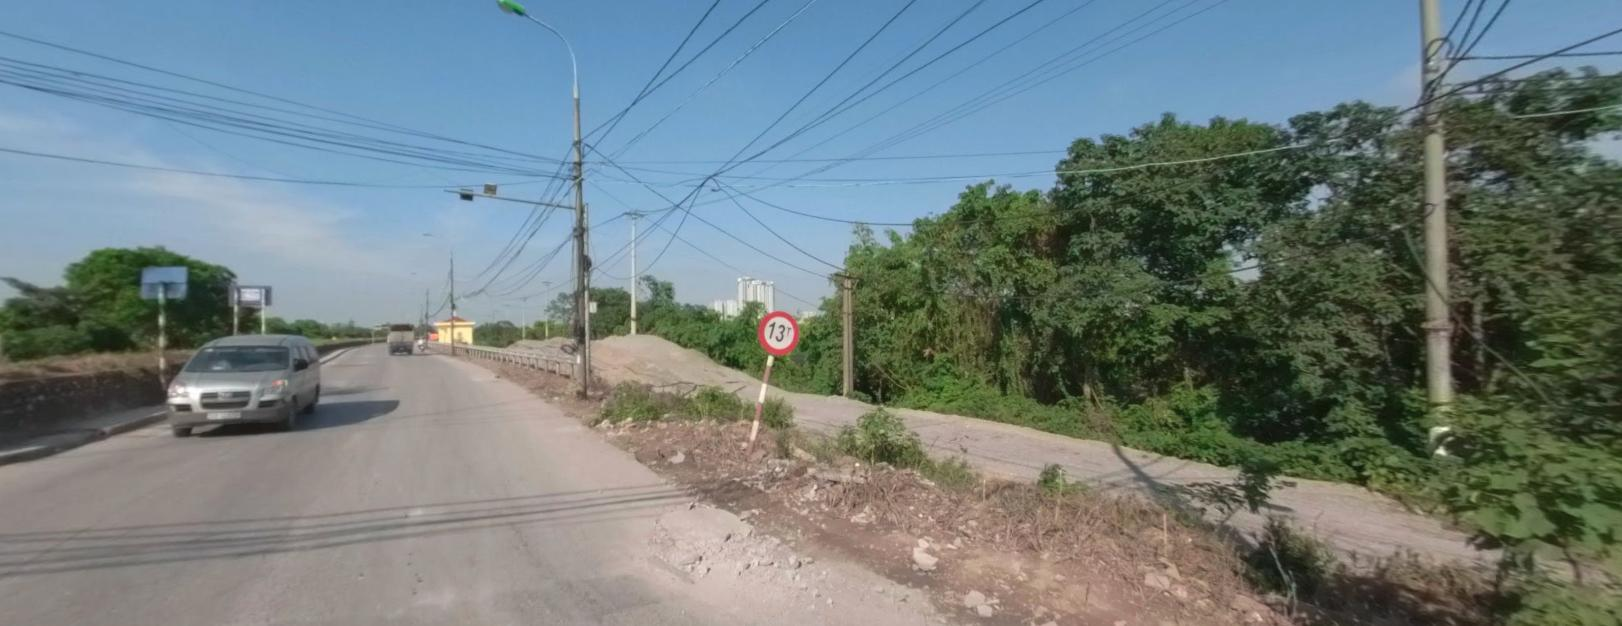Cam con lai: (757, 307, 800, 352)
